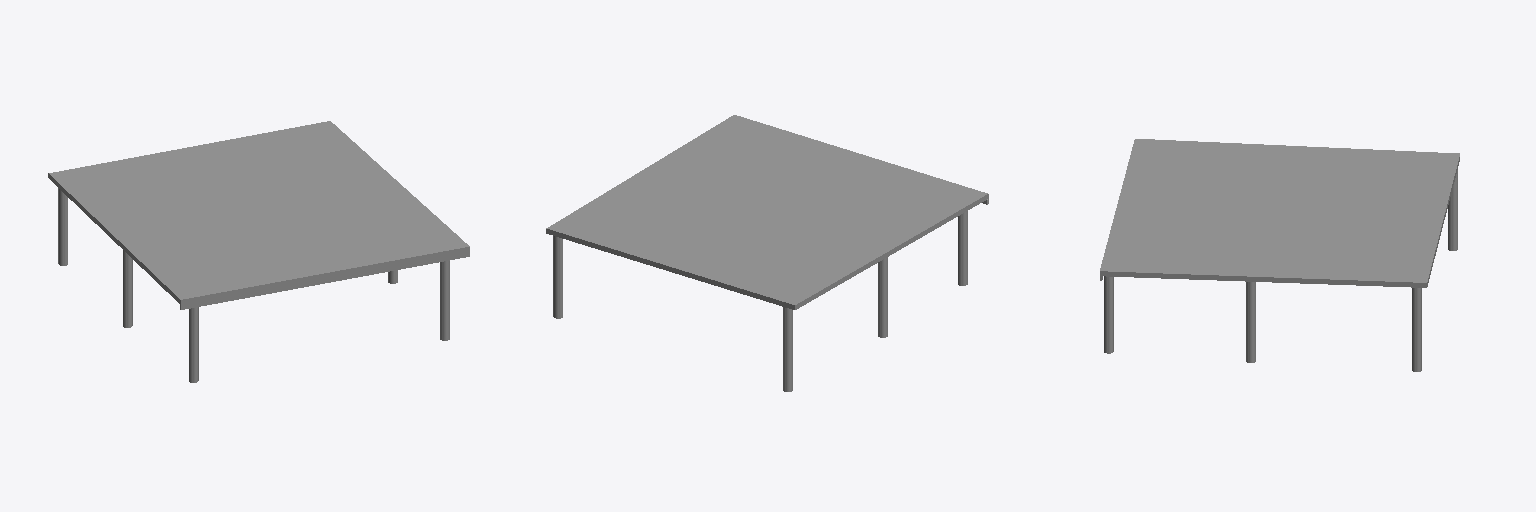
File: Driftssentral_garasje.obj
3 views of the same model, side by side, from view 1: azimuth 30°, elevation 25°; view 2: azimuth 150°, elevation 25°; view 3: azimuth 270°, elevation 25° (orthographic).
Parts seen in each view (by area): view 1: SketchUp.020_ID159, SketchUp.011_ID96, SketchUp.009_ID82, SketchUp.002_ID25, SketchUp.005_ID49, SketchUp.006_ID62, SketchUp.003_ID33; view 2: SketchUp.020_ID159, SketchUp.011_ID96, SketchUp.006_ID62, SketchUp_ID2, SketchUp.003_ID33, SketchUp.005_ID49; view 3: SketchUp.020_ID159, SketchUp.011_ID96, SketchUp_ID2, SketchUp.004_ID41, SketchUp.002_ID25, SketchUp.006_ID62.
Boxes of the visible parts, x1,y1,x2,y2 form: SketchUp.020_ID159: [49, 121, 469, 299]; SketchUp.011_ID96: [48, 173, 469, 304]; SketchUp.009_ID82: [180, 252, 469, 309]; SketchUp.002_ID25: [440, 261, 449, 340]; SketchUp.005_ID49: [189, 307, 198, 382]; SketchUp.006_ID62: [58, 188, 67, 265]; SketchUp.003_ID33: [123, 250, 132, 327]; SketchUp.020_ID159: [546, 115, 987, 304]; SketchUp.011_ID96: [546, 194, 988, 309]; SketchUp.006_ID62: [783, 307, 792, 391]; SketchUp_ID2: [553, 236, 562, 318]; SketchUp.003_ID33: [878, 257, 887, 337]; SketchUp.005_ID49: [958, 211, 967, 285]; SketchUp.020_ID159: [1100, 139, 1459, 282]; SketchUp.011_ID96: [1100, 157, 1459, 287]; SketchUp_ID2: [1412, 288, 1421, 371]; SketchUp.004_ID41: [1246, 282, 1255, 362]; SketchUp.002_ID25: [1104, 276, 1113, 353]; SketchUp.006_ID62: [1448, 170, 1457, 250].
Bounding box in the file's own units: 11 × 3.21 × 11.61.